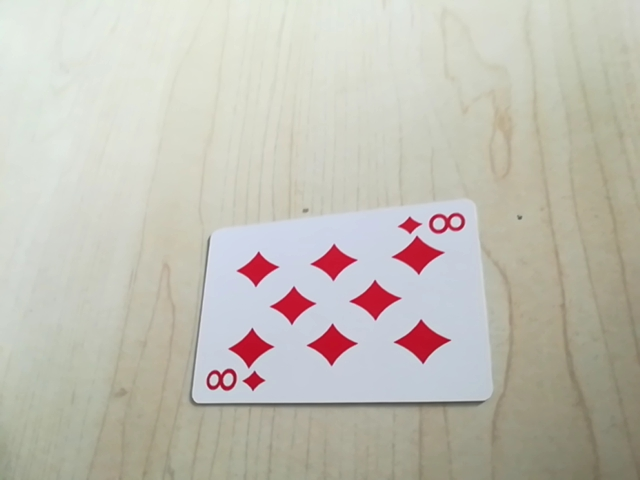fk 8: (396, 207, 471, 241), (201, 366, 267, 400)
